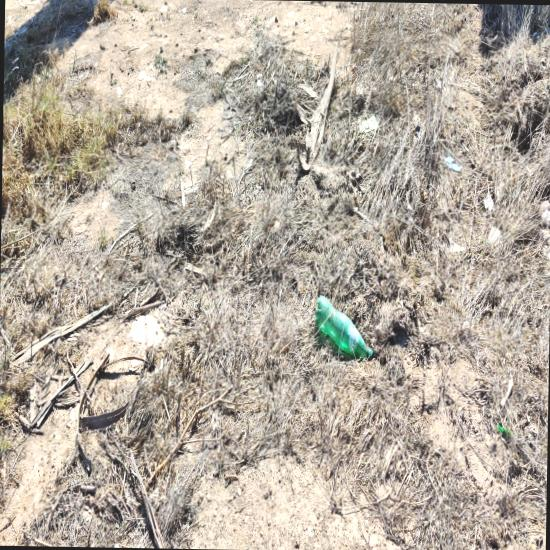Clear plastic bottle: (314, 295, 373, 360)
Other plastic bottle: (496, 424, 513, 434)
Plastic bottle cap: (368, 349, 373, 361)
Plastic film: (539, 201, 550, 227)
Unlabeled litter: (357, 114, 378, 133), (444, 155, 461, 171)
